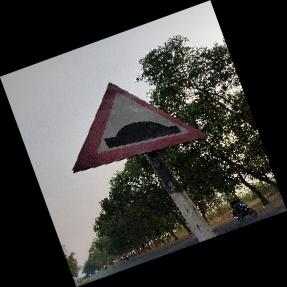Speed-breaker: (72, 83, 207, 172)
